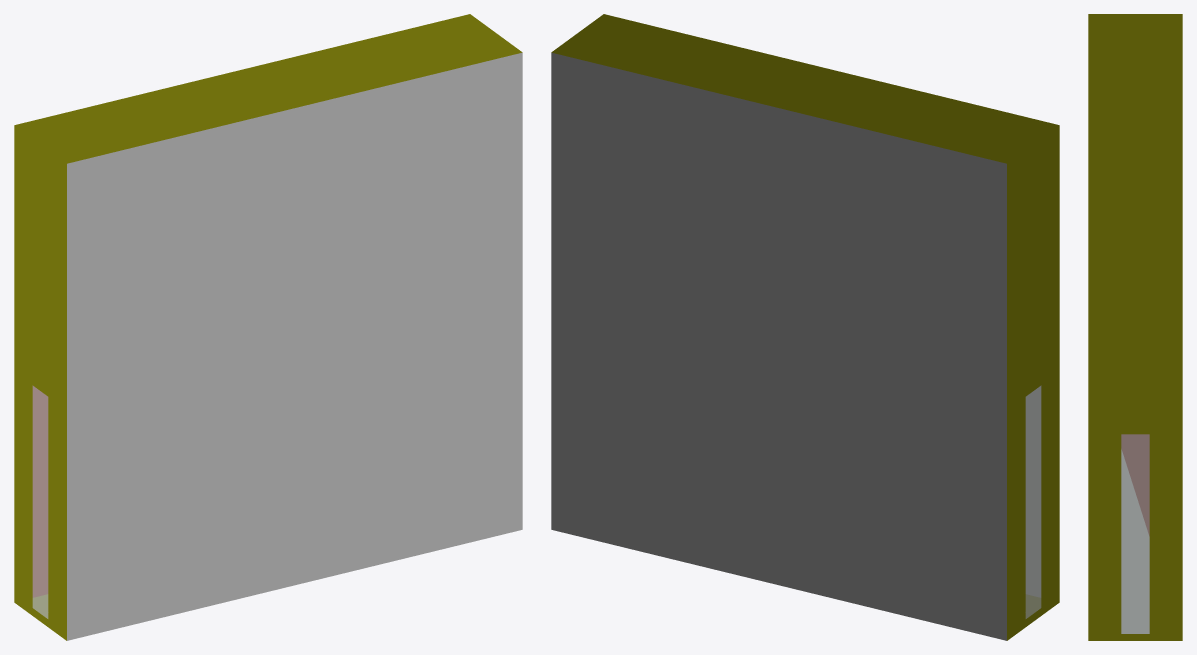
The model's file is idf.obj.
The picture shows the model from 3 angles, left to right: view 1: azimuth 30°, elevation 25°; view 2: azimuth 150°, elevation 25°; view 3: azimuth 270°, elevation 25°; orthographic projection. The views are drawn at different scales.
Bounding box in the file's own units: 15.24 × 15.24 × 3.05.
